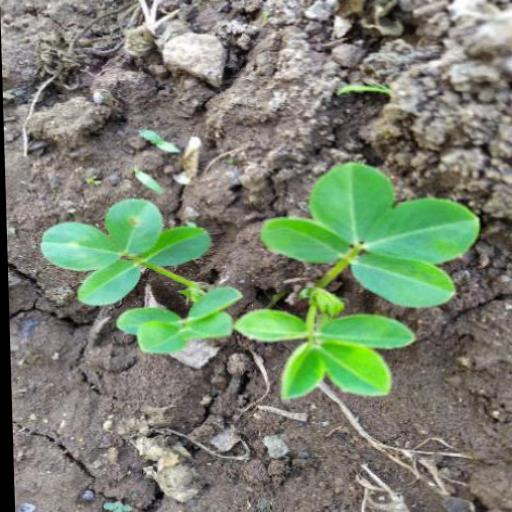weed: (29, 153, 480, 398)
